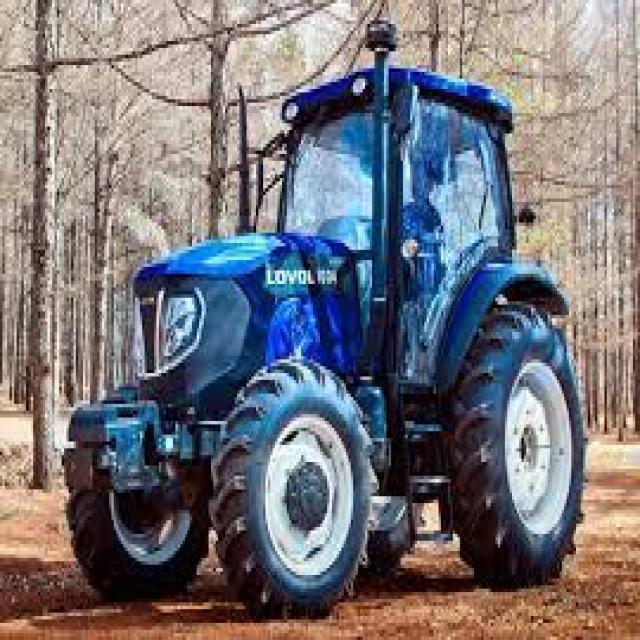Tratores - v5 YOLO V8L 2024-11-13: (66, 64, 588, 614)
